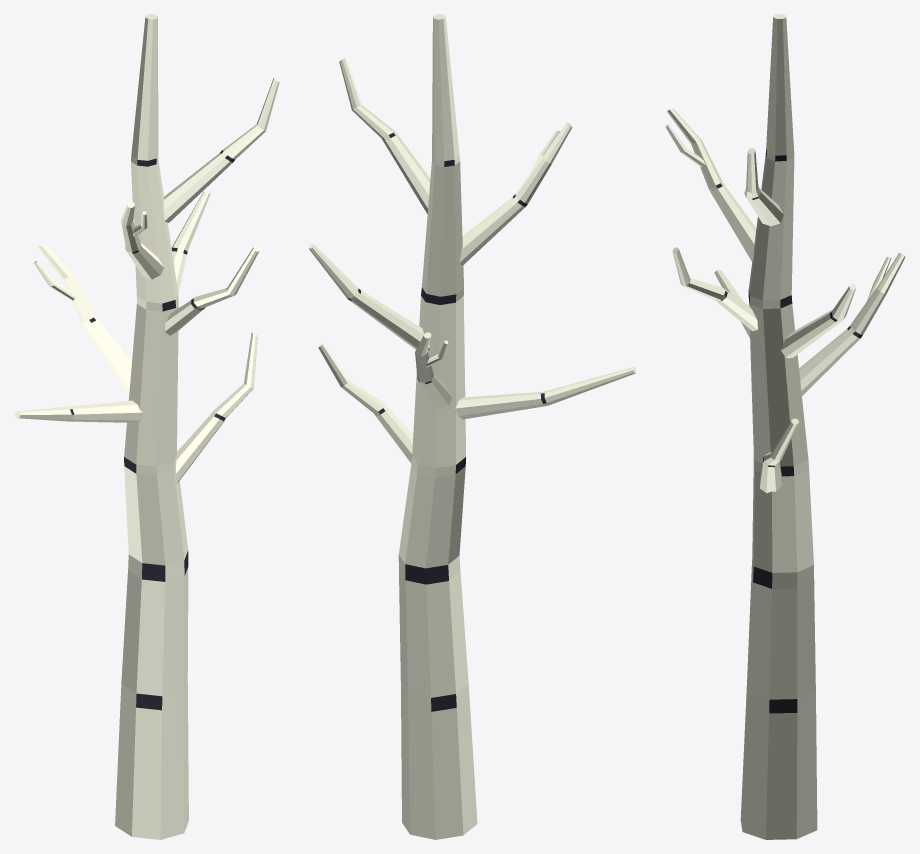
The model's file is Birch1_winter.FBX.
3 renders of one model, left to right at view 1: azimuth 30°, elevation 25°; view 2: azimuth 150°, elevation 25°; view 3: azimuth 270°, elevation 25°, orthographic.
Visible parts, largest first — view 1: Berezka3.002; view 2: Berezka3.002; view 3: Berezka3.002.
Boxes of the visible parts, <box> form: Berezka3.002: <box>14,14,279,839</box>; Berezka3.002: <box>308,14,636,839</box>; Berezka3.002: <box>665,14,905,839</box>.
Size of the model in its own units: 1.92 by 5.3 by 1.43.
